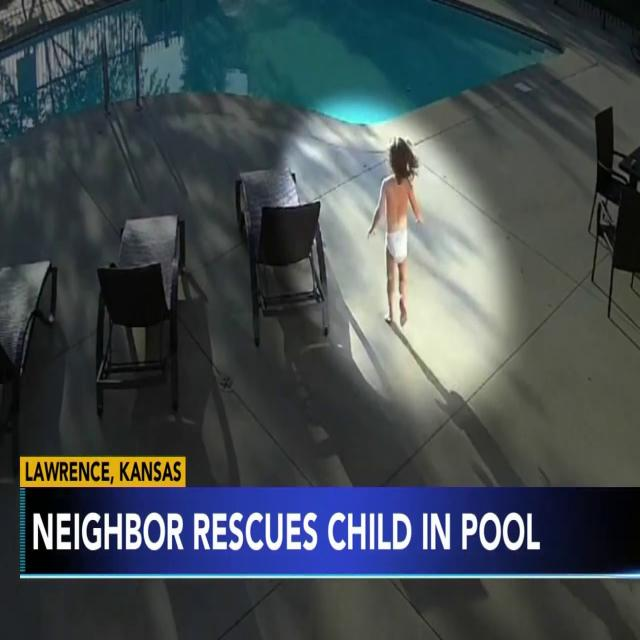child: (368, 134, 424, 337)
